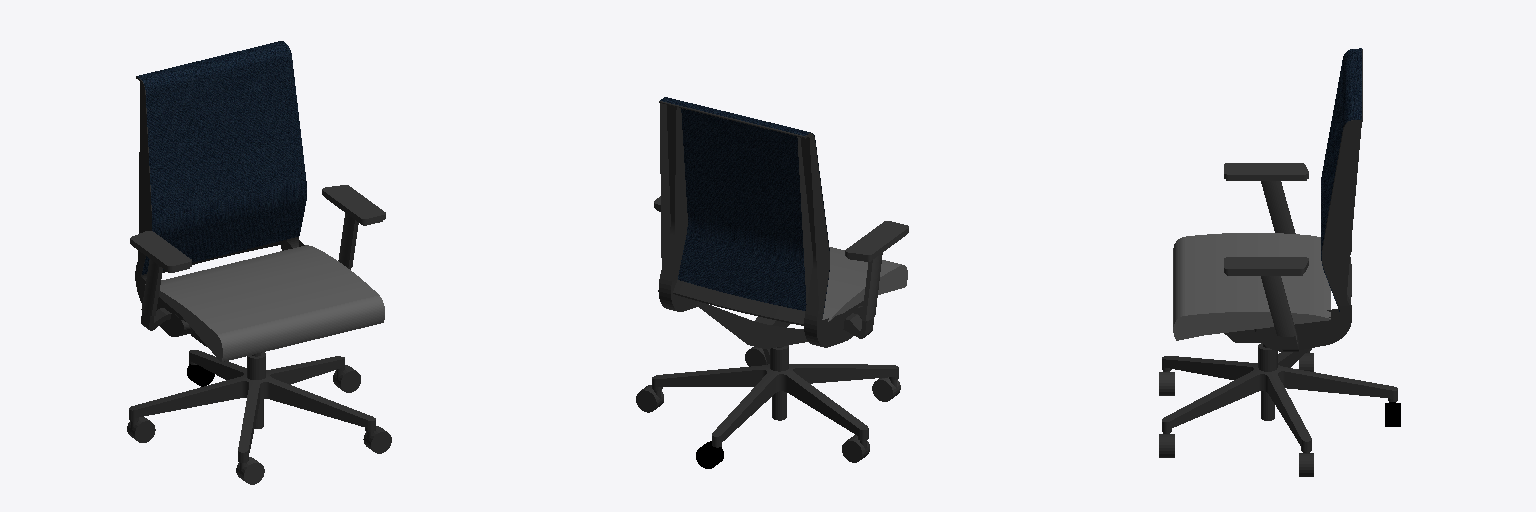
The picture shows the model from 3 angles: view 1: azimuth 30°, elevation 25°; view 2: azimuth 150°, elevation 25°; view 3: azimuth 270°, elevation 25°; orthographic projection.
Parts seen in each view (by area): view 1: Mesh23 Group20 Group17 Think skeA6_1 Model, Mesh13 Group9 Think skeA6_1 Model, Mesh11 Group7 Group1 Think skeA6_1 Model, Mesh22 Group19 Group18 Group17 Think skeA6_1 Model, Mesh21 Group16 Group14 Think skeA6_1 Model, Mesh16 Group12 Group10 Think skeA6_1 Model, Mesh15 Group12 Group10 Think skeA6_1 Model, Mesh20 Group16 Group14 Think skeA6_1 Model; view 2: Mesh23 Group20 Group17 Think skeA6_1 Model, Mesh22 Group19 Group18 Group17 Think skeA6_1 Model, Mesh11 Group7 Group1 Think skeA6_1 Model, Mesh13 Group9 Think skeA6_1 Model, Mesh12 Group8 Think skeA6_1 Model, Mesh16 Group12 Group10 Think skeA6_1 Model, Mesh15 Group12 Group10 Think skeA6_1 Model; view 3: Mesh13 Group9 Think skeA6_1 Model, Mesh11 Group7 Group1 Think skeA6_1 Model, Mesh22 Group19 Group18 Group17 Think skeA6_1 Model, Mesh23 Group20 Group17 Think skeA6_1 Model, Mesh21 Group16 Group14 Think skeA6_1 Model, Mesh16 Group12 Group10 Think skeA6_1 Model, Mesh20 Group16 Group14 Think skeA6_1 Model, Mesh15 Group12 Group10 Think skeA6_1 Model.
Boxes of the visible parts, box(x1,y1,x2,y2) form: Mesh23 Group20 Group17 Think skeA6_1 Model: box(137, 41, 306, 274); Mesh13 Group9 Think skeA6_1 Model: box(145, 245, 384, 361); Mesh11 Group7 Group1 Think skeA6_1 Model: box(129, 350, 375, 462); Mesh22 Group19 Group18 Group17 Think skeA6_1 Model: box(135, 76, 304, 336); Mesh21 Group16 Group14 Think skeA6_1 Model: box(322, 185, 385, 225); Mesh16 Group12 Group10 Think skeA6_1 Model: box(130, 231, 191, 272); Mesh15 Group12 Group10 Think skeA6_1 Model: box(141, 259, 162, 316); Mesh20 Group16 Group14 Think skeA6_1 Model: box(338, 213, 358, 268); Mesh23 Group20 Group17 Think skeA6_1 Model: box(660, 97, 829, 313); Mesh22 Group19 Group18 Group17 Think skeA6_1 Model: box(658, 101, 862, 347); Mesh11 Group7 Group1 Think skeA6_1 Model: box(652, 345, 898, 447); Mesh13 Group9 Think skeA6_1 Model: box(822, 247, 907, 321); Mesh12 Group8 Think skeA6_1 Model: box(697, 301, 807, 348); Mesh16 Group12 Group10 Think skeA6_1 Model: box(845, 221, 908, 261); Mesh15 Group12 Group10 Think skeA6_1 Model: box(862, 253, 882, 321); Mesh13 Group9 Think skeA6_1 Model: box(1173, 233, 1330, 340); Mesh11 Group7 Group1 Think skeA6_1 Model: box(1162, 343, 1397, 451); Mesh22 Group19 Group18 Group17 Think skeA6_1 Model: box(1255, 49, 1362, 351); Mesh23 Group20 Group17 Think skeA6_1 Model: box(1321, 48, 1361, 311); Mesh21 Group16 Group14 Think skeA6_1 Model: box(1224, 257, 1308, 275); Mesh16 Group12 Group10 Think skeA6_1 Model: box(1224, 163, 1308, 180); Mesh20 Group16 Group14 Think skeA6_1 Model: box(1261, 276, 1296, 336); Mesh15 Group12 Group10 Think skeA6_1 Model: box(1261, 181, 1295, 233).
Size of the model in its own units: 27.6 by 38.87 by 25.13.
5 materials, 1 textured.